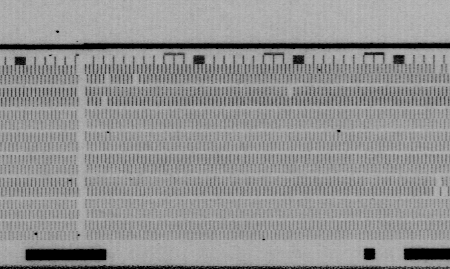Broken hole: (432, 177, 450, 198), (433, 64, 450, 75), (284, 86, 296, 98), (129, 74, 142, 85), (102, 74, 114, 85), (99, 97, 111, 108)
